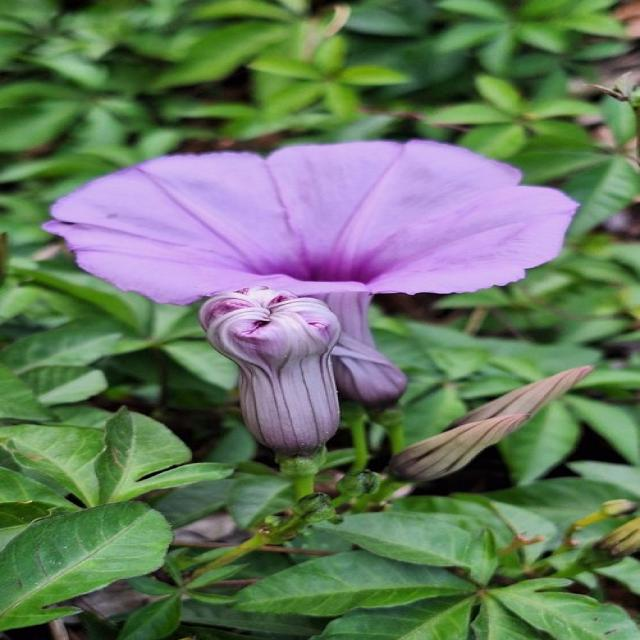ipomoea: (39, 136, 584, 457), (193, 284, 351, 458)
